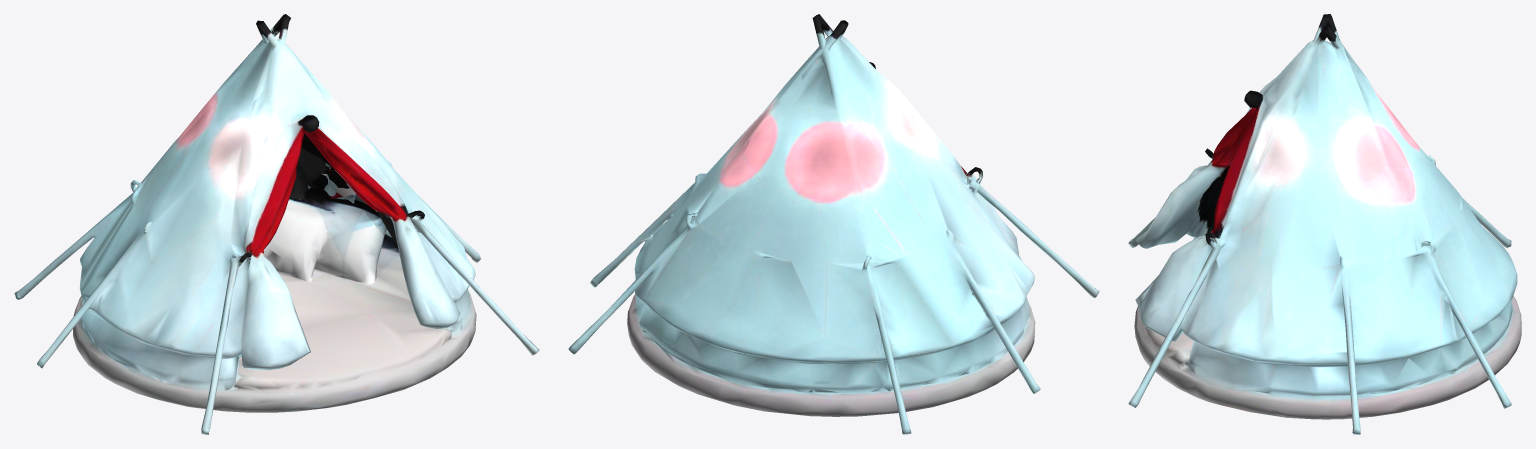
The model's file is clay-tent.glb.
3 views of the same model, side by side, from view 1: azimuth 30°, elevation 25°; view 2: azimuth 150°, elevation 25°; view 3: azimuth 270°, elevation 25° (orthographic).
Bounding box in the file's own units: 1.9 × 1.29 × 1.46.
Materials: 1 (1 with a texture image).
